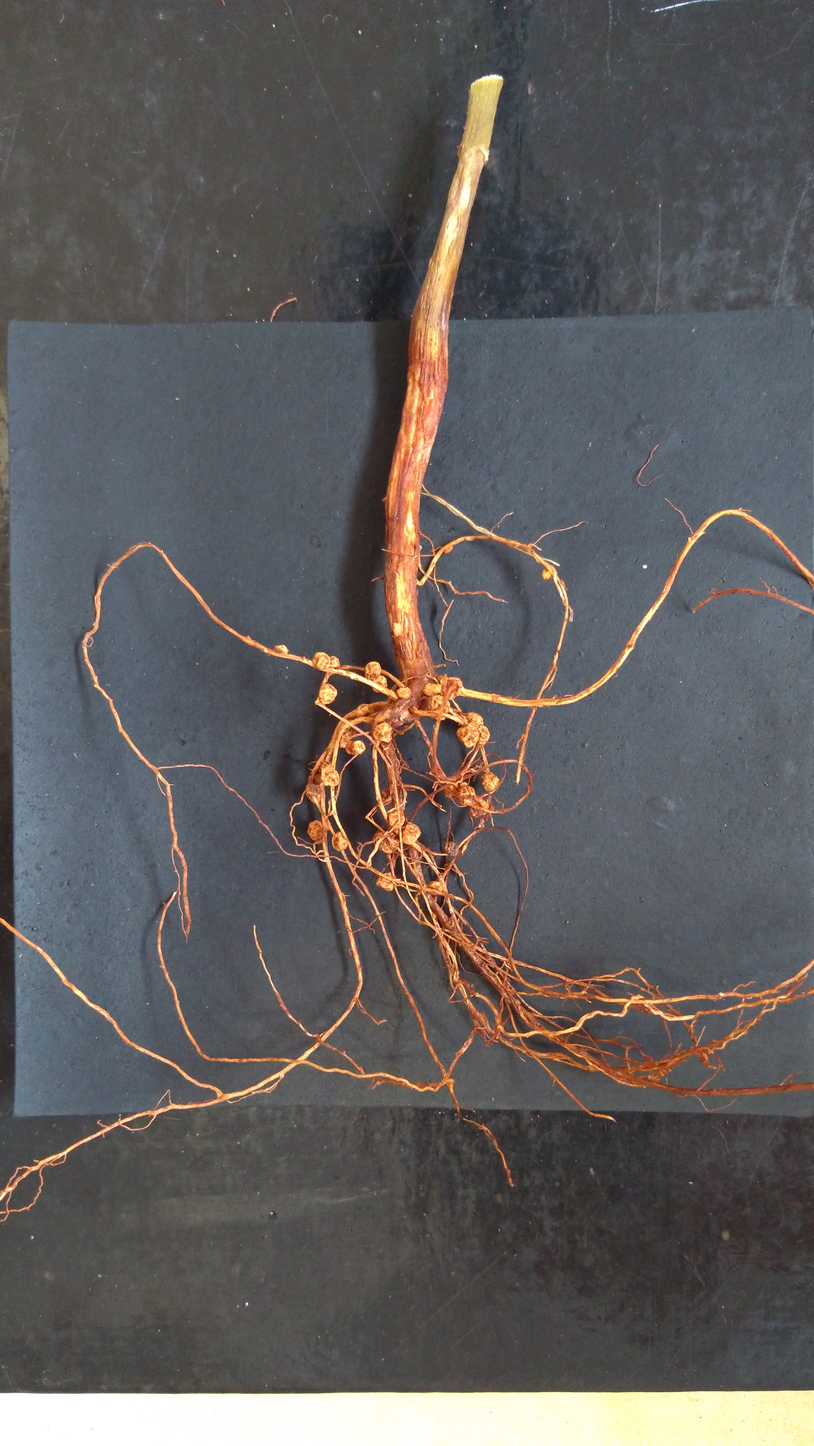nodule: (443, 781, 479, 808), (373, 829, 400, 856), (426, 694, 452, 722), (441, 673, 464, 702), (456, 725, 480, 750), (400, 820, 422, 847), (371, 721, 396, 744), (479, 769, 502, 794), (320, 763, 342, 789), (318, 682, 339, 706), (330, 829, 351, 853), (311, 650, 332, 672), (363, 660, 382, 683), (303, 782, 322, 805), (344, 739, 368, 757), (306, 819, 324, 843), (375, 872, 396, 892), (386, 809, 407, 828), (339, 726, 355, 750), (370, 674, 388, 694), (465, 710, 486, 726), (478, 724, 492, 747), (355, 703, 375, 719), (427, 880, 445, 896), (272, 643, 292, 657), (444, 840, 460, 857), (541, 564, 555, 583), (328, 653, 342, 670), (395, 686, 411, 699), (442, 545, 456, 555)
